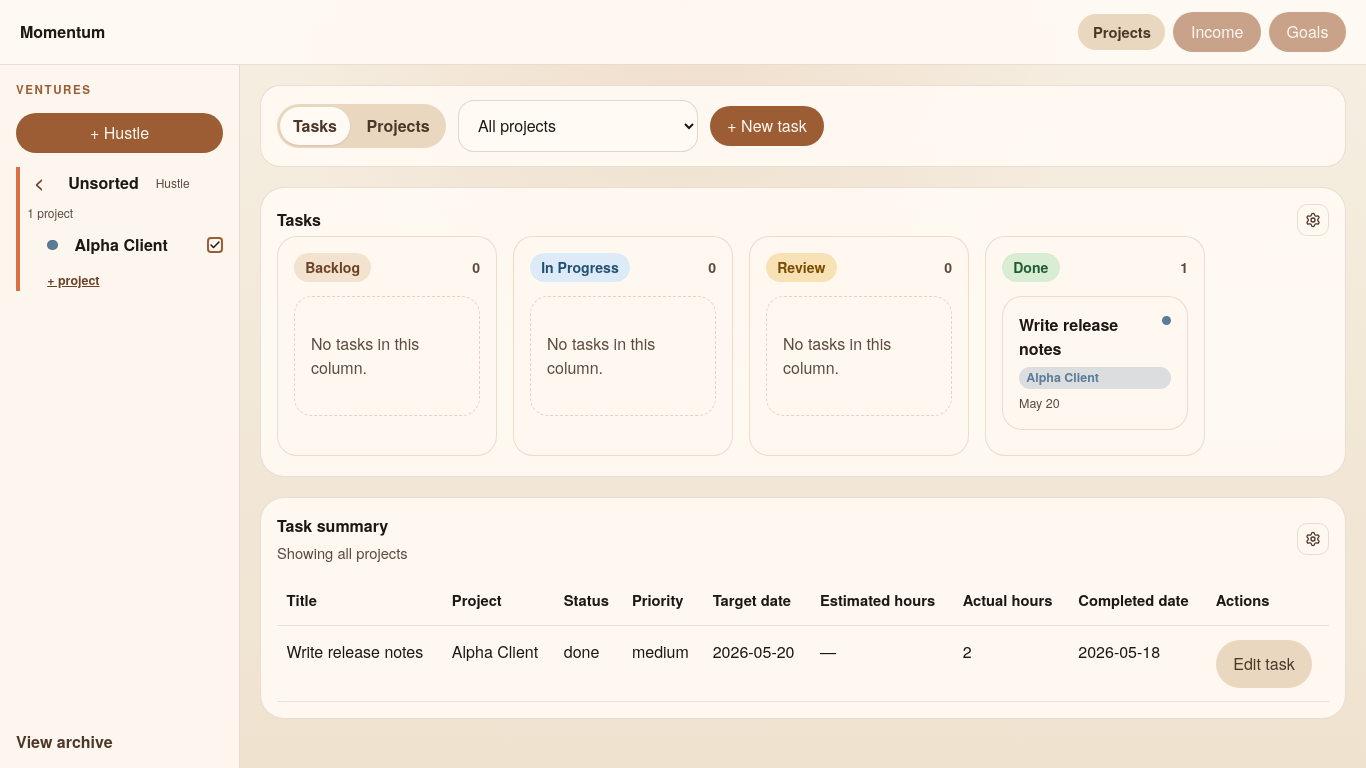
Ticket 1b-8 owner UI polish › time-log delete is plain X (no icon button); confirm opens before DELETE
Step 1. Click the button "Edit task" → (1264, 664), box [1216,640,1312,688]
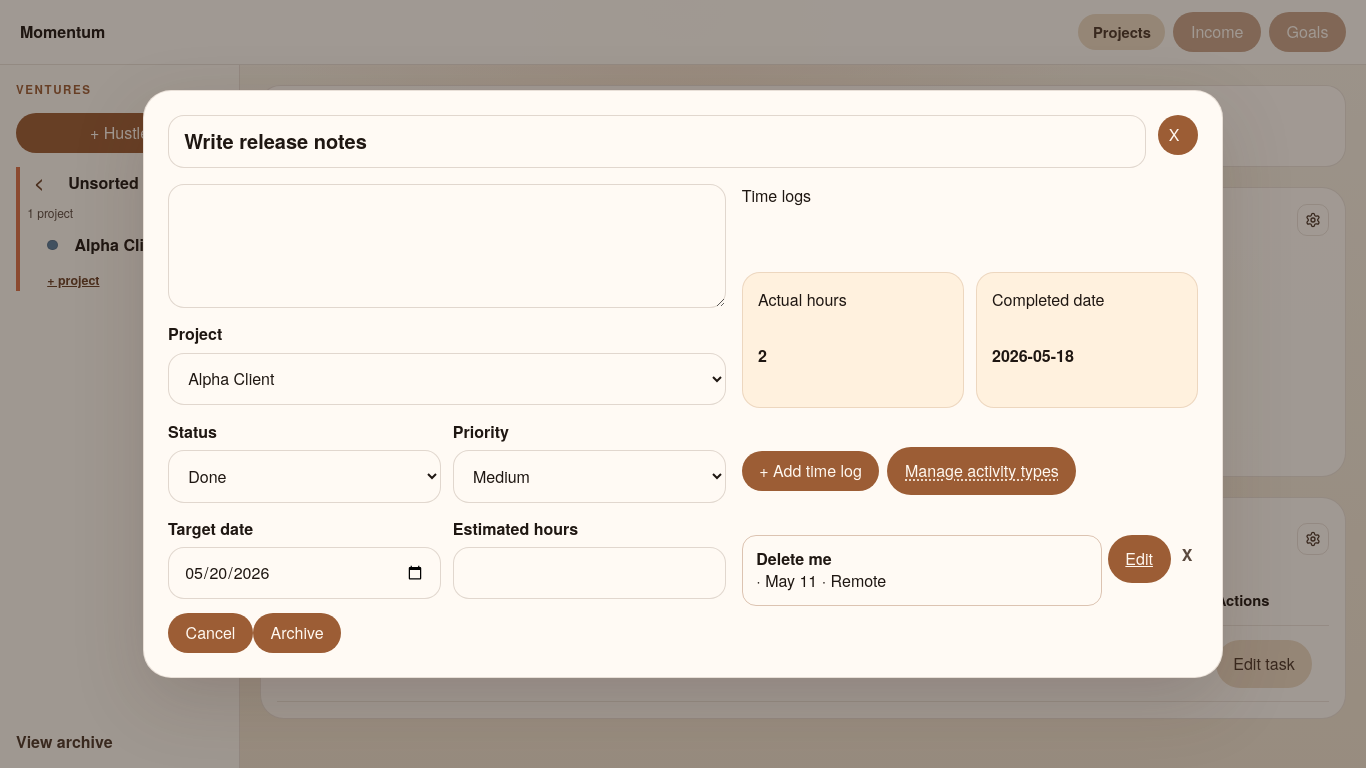
Step 2. Click the button named "delete time log delete me" → (1187, 555), box [1176,535,1198,575]
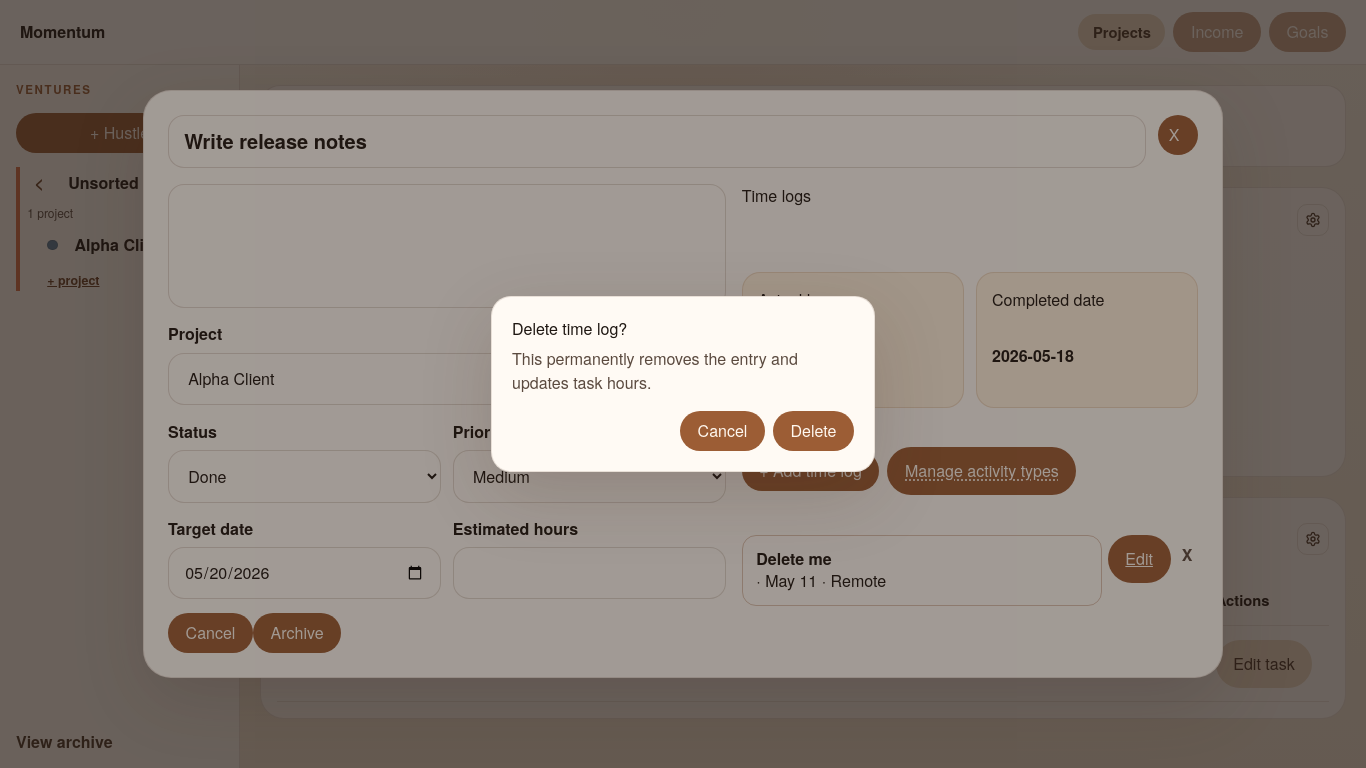
Expected: the dialog is shown, [491,296,875,472]
